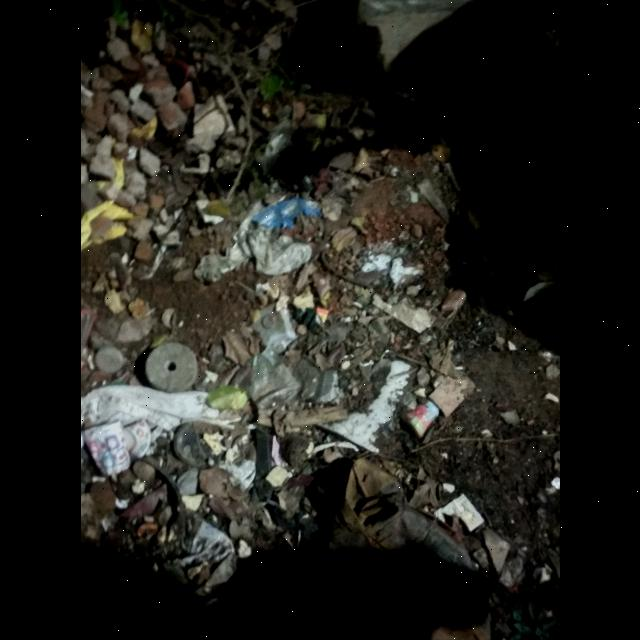trash: (352, 0, 485, 78), (314, 359, 416, 455), (80, 383, 220, 432), (250, 196, 322, 230)
